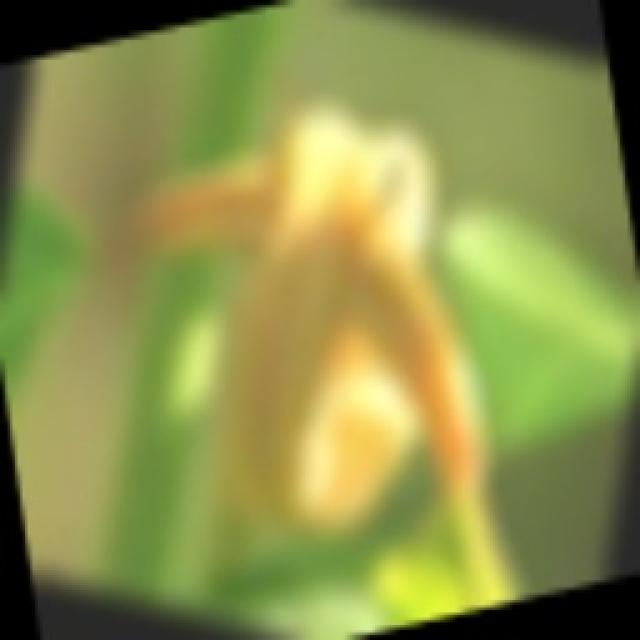Elderberry_rust: (123, 103, 504, 580)
